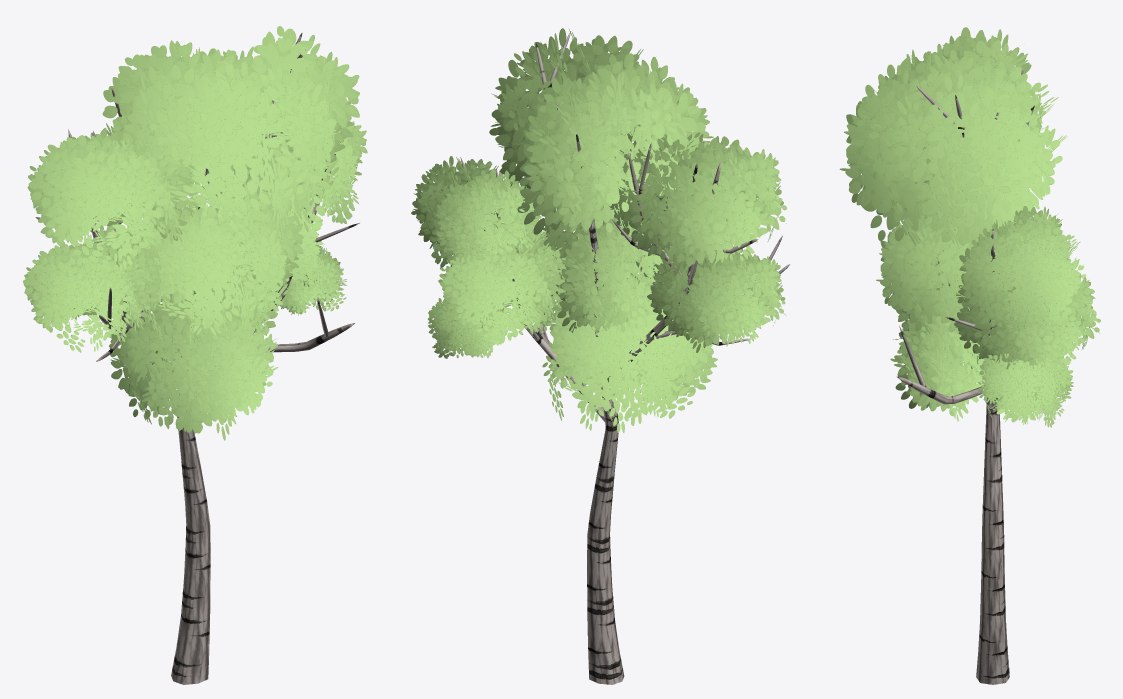
The model's file is BirchTree_3.glb.
The picture shows the model from 3 angles, left to right: view 1: azimuth 30°, elevation 25°; view 2: azimuth 150°, elevation 25°; view 3: azimuth 270°, elevation 25°; orthographic projection. The views are drawn at different scales.
Visible parts, largest first — view 1: BirchTree_3; view 2: BirchTree_3; view 3: BirchTree_3.
Boxes of the visible parts, box(x1,y1,x2,y2) form: BirchTree_3: box(23, 26, 367, 684); BirchTree_3: box(411, 28, 790, 684); BirchTree_3: box(839, 27, 1100, 684).
Bounding box in the file's own units: 3.43 × 5.75 × 2.27.
Materials: 2 (2 with a texture image).
